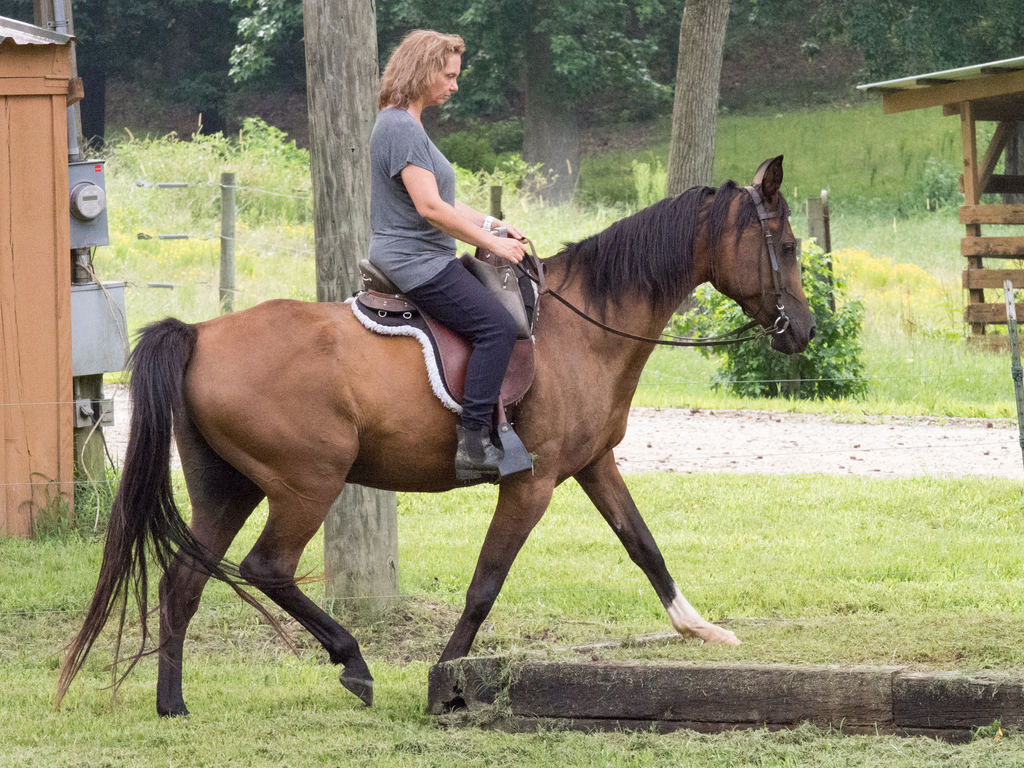horse: (53, 154, 816, 718)
